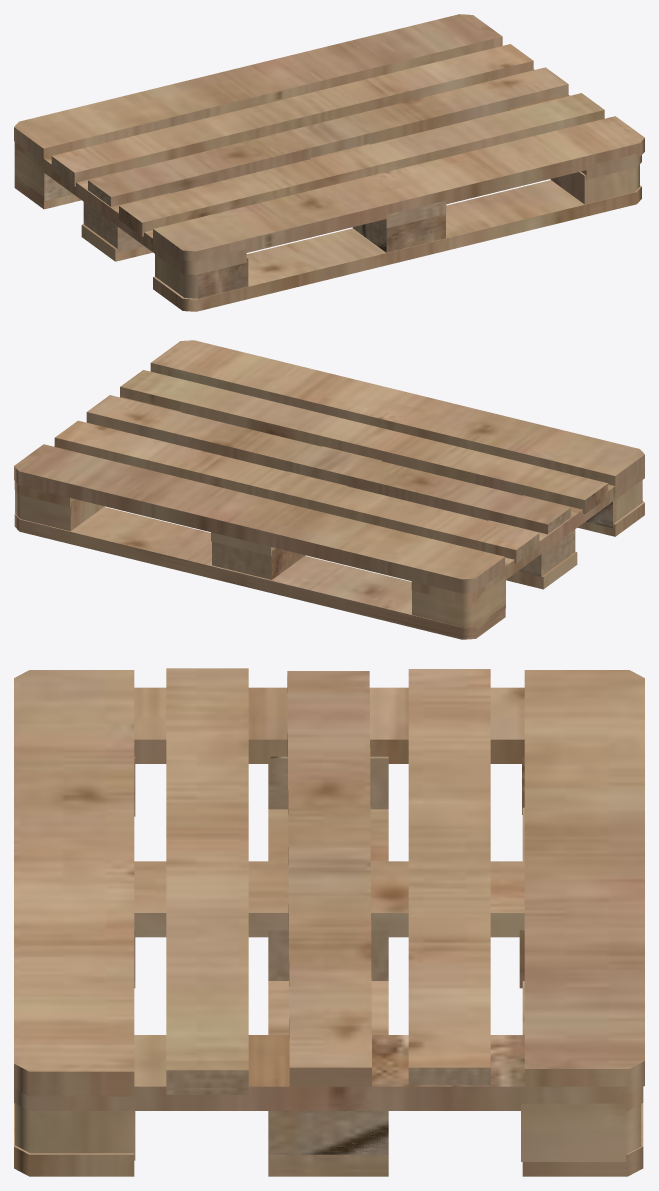
The model's file is warehouse_pallet_a01.glb.
3 views of the same model, one above another, from view 1: azimuth 30°, elevation 25°; view 2: azimuth 150°, elevation 25°; view 3: azimuth 270°, elevation 25° (orthographic). The views are drawn at different scales.
Parts seen in each view (by area): view 1: warehouse_pallet_a01_mesh_00.001 (×2); view 2: warehouse_pallet_a01_mesh_00.001 (×2); view 3: warehouse_pallet_a01_mesh_00.001 (×2).
Boxes of the visible parts, <box> form: warehouse_pallet_a01_mesh_00.001 (×2): <box>14,14,644,311</box>; warehouse_pallet_a01_mesh_00.001 (×2): <box>14,340,644,639</box>; warehouse_pallet_a01_mesh_00.001 (×2): <box>14,668,644,1176</box>.
Bounding box in the file's own units: 1.21 × 0.1527 × 0.8023.
1 material, 1 textured.
